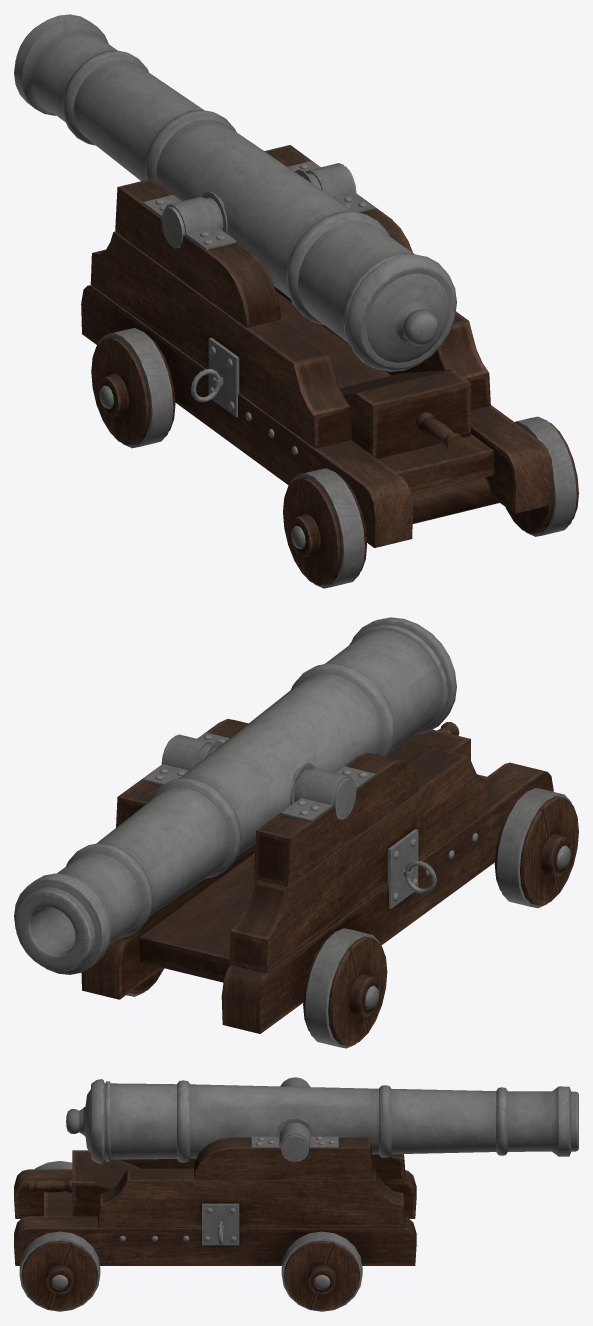
The model's file is cannon.glb.
The picture shows the model from 3 angles, top to bottom: view 1: azimuth 30°, elevation 25°; view 2: azimuth 150°, elevation 25°; view 3: azimuth 270°, elevation 25°; orthographic projection. The views are drawn at different scales.
Visible parts, largest first — view 1: korpus, cannon, koleso, detal, kreplenie, kolco; view 2: korpus, cannon, koleso, kreplenie, kolco, detal, boltiki; view 3: korpus, cannon, koleso, detal, kolco, kreplenie, boltiki.
Part boxes in pixels (x1=…): korpus: x1=81, y1=145, x2=553, y2=547; cannon: x1=14, y1=14, x2=456, y2=371; koleso: x1=91, y1=328, x2=578, y2=588; detal: x1=340, y1=369, x2=470, y2=458; kreplenie: x1=142, y1=161, x2=375, y2=249; kolco: x1=190, y1=337, x2=239, y2=417; korpus: x1=81, y1=719, x2=553, y2=1033; cannon: x1=14, y1=617, x2=456, y2=974; koleso: x1=126, y1=788, x2=578, y2=1048; kreplenie: x1=142, y1=732, x2=375, y2=821; kolco: x1=387, y1=829, x2=436, y2=908; detal: x1=388, y1=722, x2=470, y2=763; boltiki: x1=155, y1=734, x2=477, y2=901; korpus: x1=14, y1=1137, x2=416, y2=1265; cannon: x1=66, y1=1079, x2=578, y2=1163; koleso: x1=19, y1=1161, x2=362, y2=1311; detal: x1=29, y1=1150, x2=140, y2=1216; kolco: x1=202, y1=1203, x2=239, y2=1245; kreplenie: x1=251, y1=1077, x2=338, y2=1147; boltiki: x1=119, y1=1136, x2=334, y2=1241.
Bounding box in the file's own units: 6.69 × 6.48 × 17.46.
Materials: 1 (1 with a texture image).
